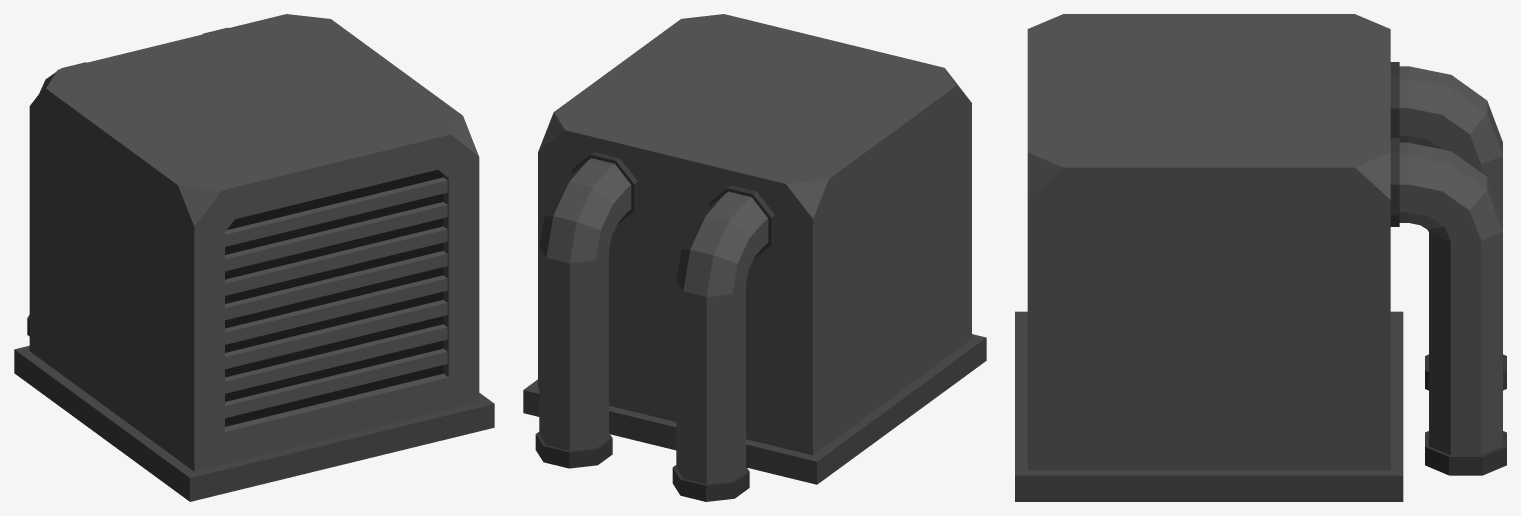
Rendered from SM_BuildingsDecor_01.fbx.
3 renders of one model, left to right at view 1: azimuth 30°, elevation 25°; view 2: azimuth 150°, elevation 25°; view 3: azimuth 270°, elevation 25°, orthographic. The views are drawn at different scales.
Visible parts, largest first — view 1: SM_BuildingsDecor_01; view 2: SM_BuildingsDecor_01; view 3: SM_BuildingsDecor_01.
Boxes of the visible parts, left/top/right/bottom form: SM_BuildingsDecor_01: left=14, top=14, right=494, bottom=501; SM_BuildingsDecor_01: left=523, top=14, right=986, bottom=501; SM_BuildingsDecor_01: left=1015, top=14, right=1506, bottom=501.
Bounding box in the file's own units: 1.37 × 1.28 × 1.73.
